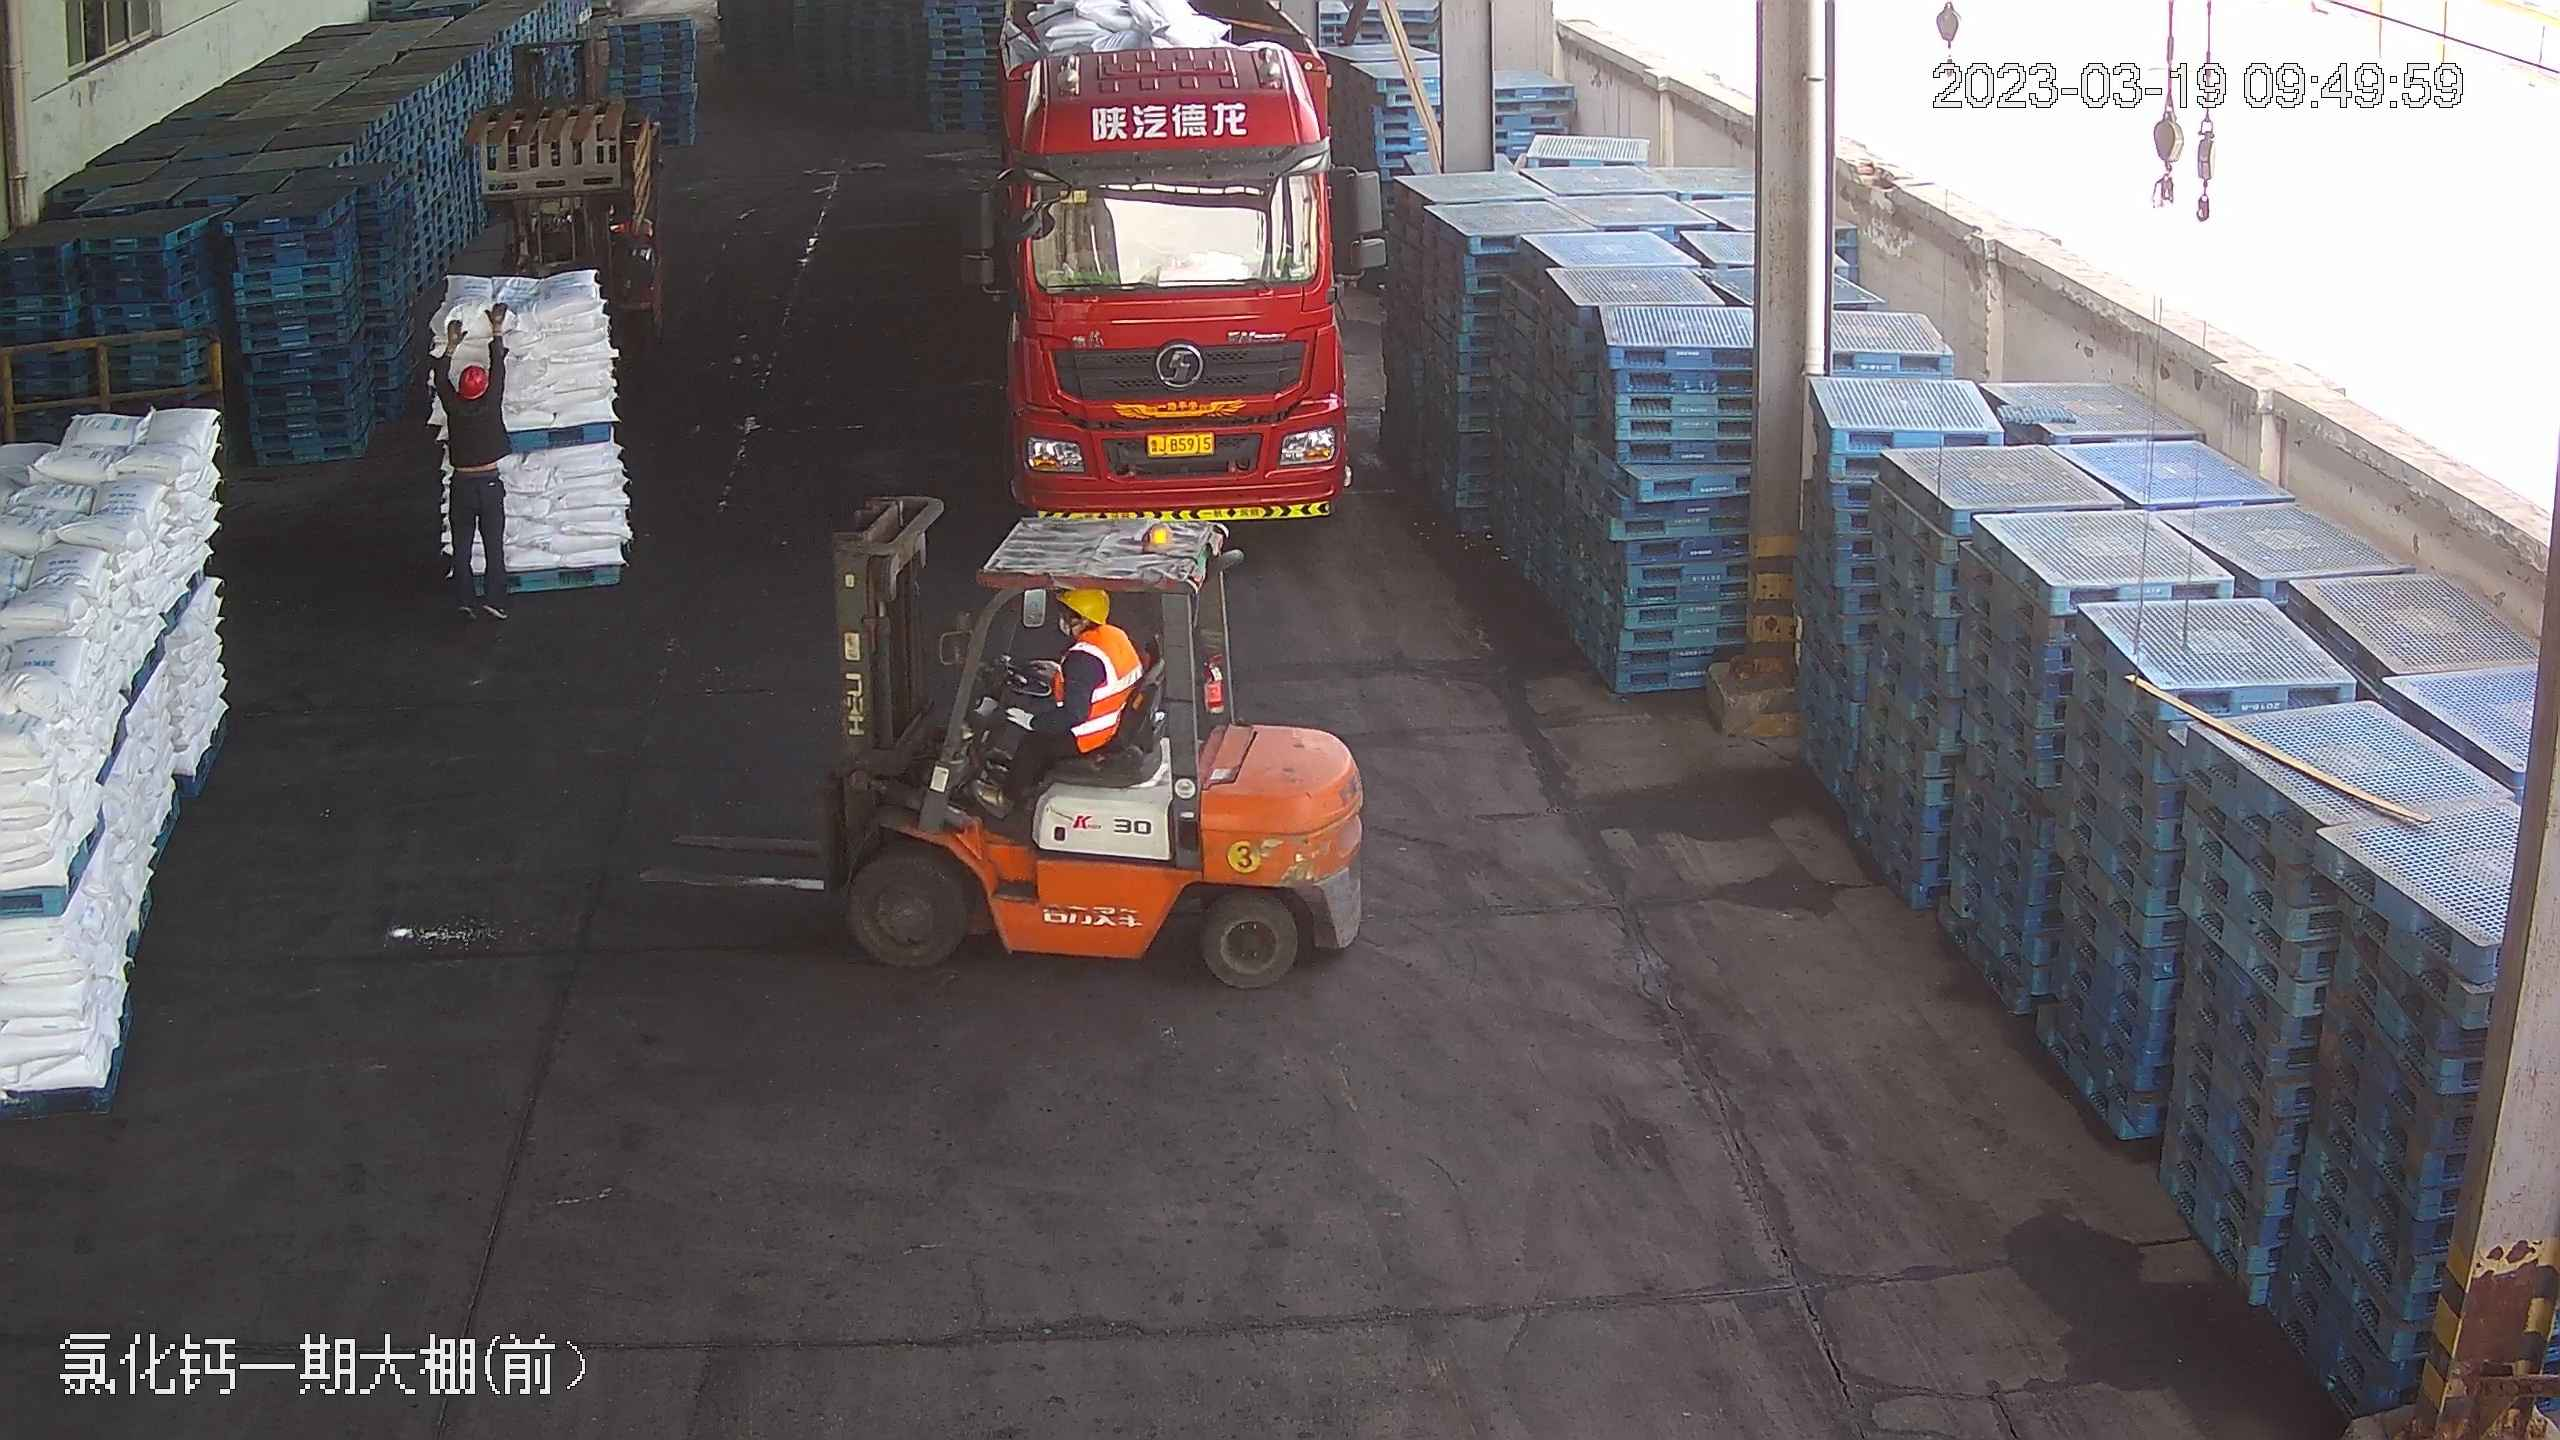head: (978, 582, 1134, 822), (1030, 585, 1130, 694), (443, 362, 499, 431)
helmet: (1055, 585, 1106, 624), (454, 363, 487, 393)
people: (976, 583, 1136, 826), (436, 351, 509, 610)
truck: (980, 0, 1356, 517)
